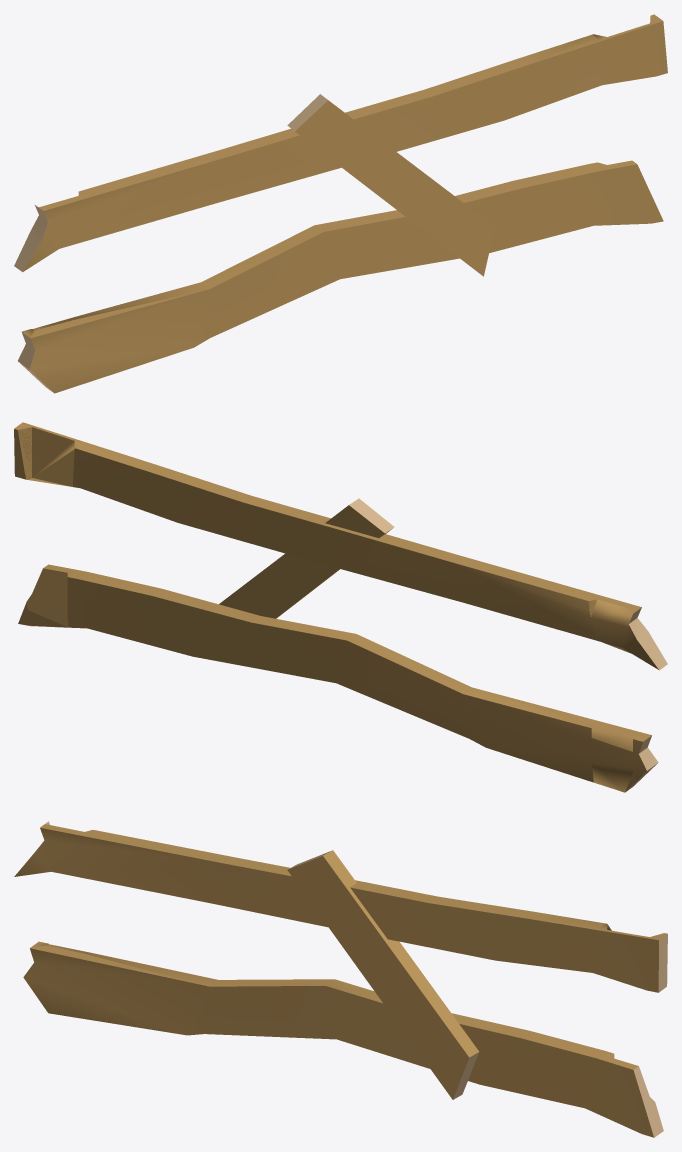
The model's file is Fence_Timber_Large_02_Connector.fbx.
3 renders of one model, top to bottom at view 1: azimuth 30°, elevation 25°; view 2: azimuth 150°, elevation 25°; view 3: azimuth 330°, elevation 25°, orthographic.
Visible parts, largest first — view 1: Fence_Timber_Large_02.001; view 2: Fence_Timber_Large_02.001; view 3: Fence_Timber_Large_02.001.
Part boxes in pixels (<box>): Fence_Timber_Large_02.001: <box>14,14,667,393</box>; Fence_Timber_Large_02.001: <box>14,422,667,792</box>; Fence_Timber_Large_02.001: <box>14,821,667,1137</box>.
Bounding box in the file's own units: 212 × 70.17 × 14.22.
